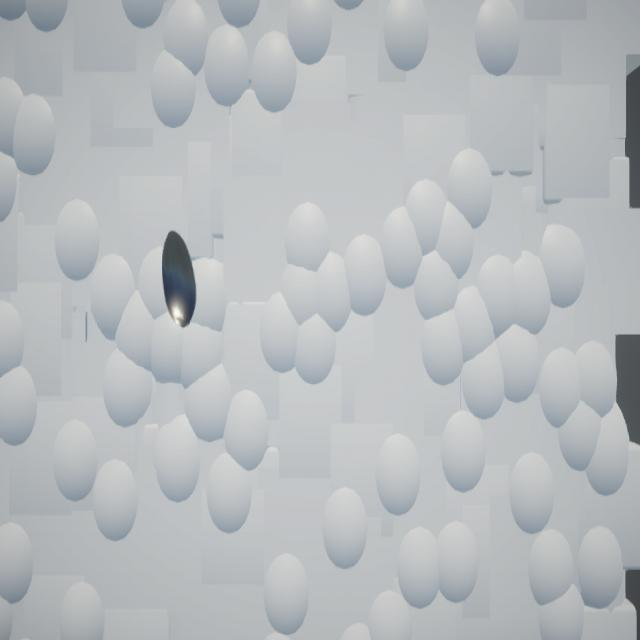top_spoon: (163, 232, 197, 330)
